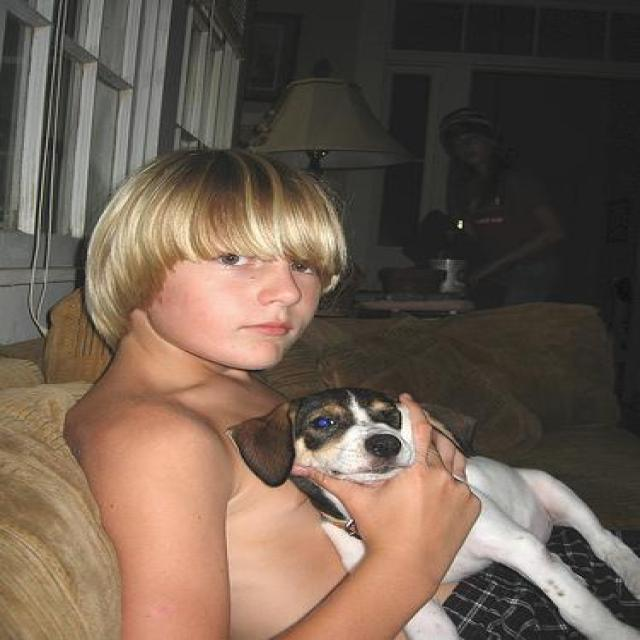beagle: (232, 385, 635, 636)
